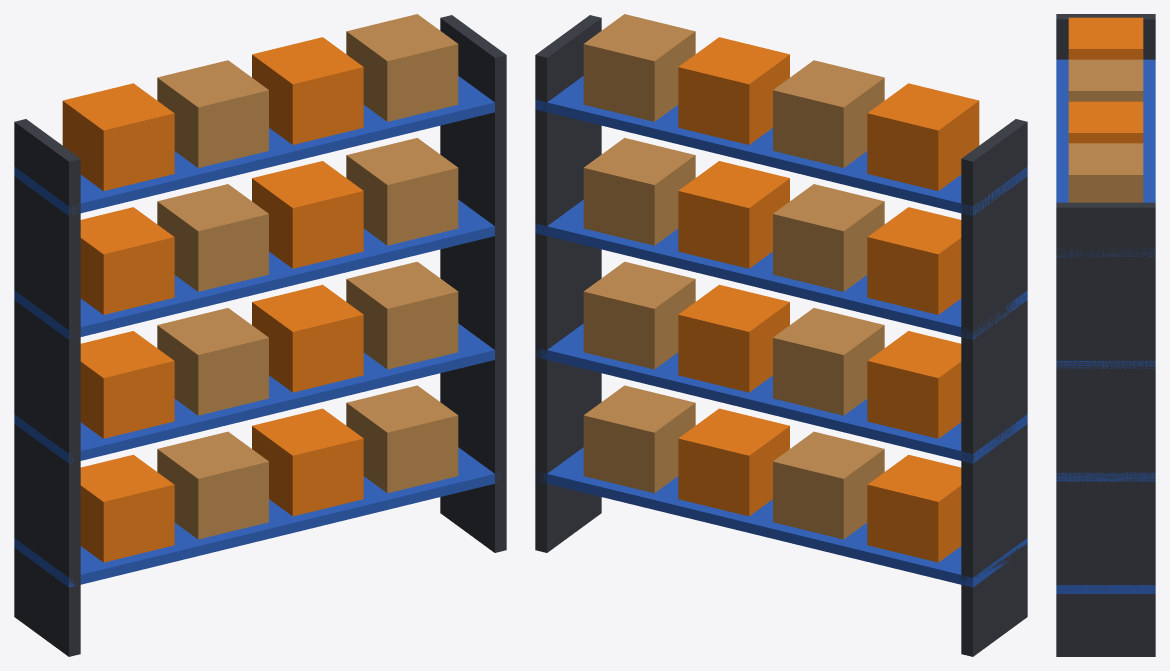
Rendered from garage_parts_shelf.glb.
The picture shows the model from 3 angles, left to right: view 1: azimuth 30°, elevation 25°; view 2: azimuth 150°, elevation 25°; view 3: azimuth 270°, elevation 25°; orthographic projection. The views are drawn at different scales.
Parts seen in each view (by area): view 1: parts_shelf; view 2: parts_shelf; view 3: parts_shelf.
Boxes of the visible parts, box(x1,y1,x2,y2) form: parts_shelf: box(14, 14, 506, 656); parts_shelf: box(535, 14, 1027, 656); parts_shelf: box(1056, 14, 1155, 656).
Bounding box in the file's own units: 1.85 × 2.07 × 0.4.
